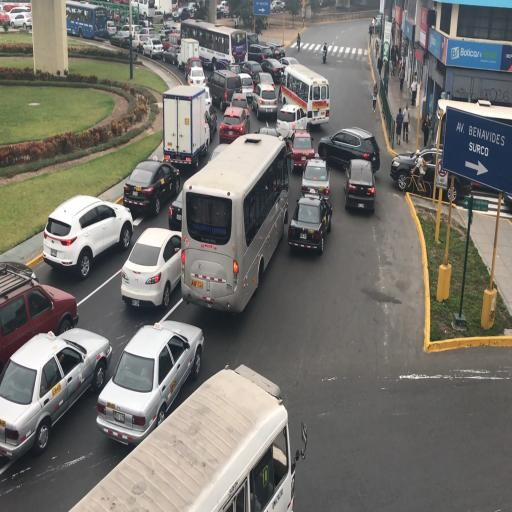auto: (65, 356, 291, 507), (1, 326, 114, 464), (96, 318, 202, 440), (1, 262, 78, 384), (43, 191, 133, 277), (119, 226, 185, 309), (390, 142, 474, 200), (122, 158, 180, 217), (320, 126, 375, 174), (344, 157, 375, 213), (208, 68, 242, 111), (219, 105, 250, 146), (301, 156, 329, 201), (289, 128, 316, 173), (276, 102, 304, 142), (253, 81, 277, 120), (240, 59, 266, 87), (112, 23, 140, 48), (260, 57, 286, 82), (247, 43, 274, 67), (142, 37, 164, 60), (162, 43, 183, 66), (278, 56, 298, 77), (161, 30, 180, 52), (11, 11, 32, 29), (138, 26, 156, 46), (267, 42, 286, 60), (186, 1, 199, 18), (216, 0, 229, 12), (270, 0, 283, 12), (222, 4, 230, 18)
bus: (434, 97, 511, 214), (162, 84, 211, 174), (178, 37, 200, 73)
camion: (322, 43, 328, 62)
moto: (180, 133, 284, 307), (278, 62, 327, 130), (182, 20, 236, 72), (66, 3, 108, 40), (130, 0, 156, 22)
